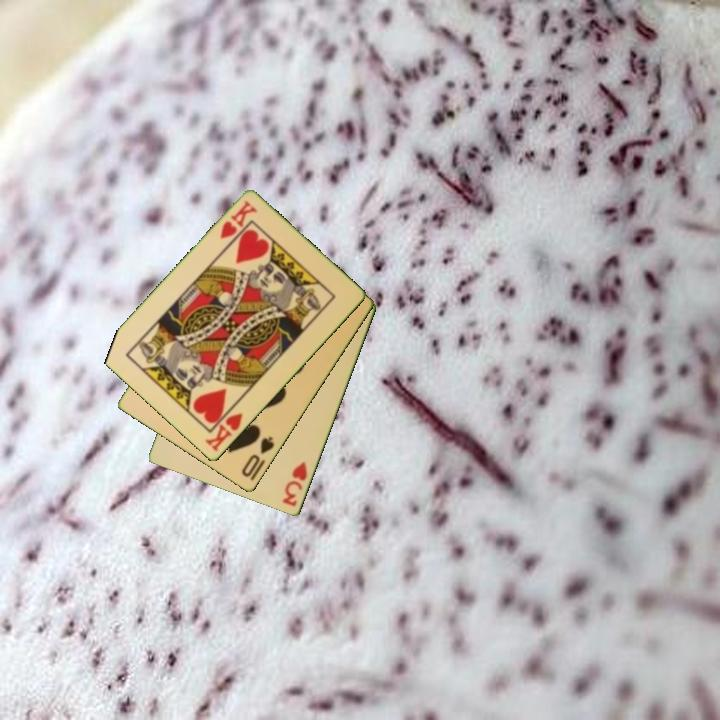10s: (238, 433, 277, 480)
3h: (279, 458, 310, 510)
Kh: (201, 401, 246, 455), (216, 197, 260, 243)
